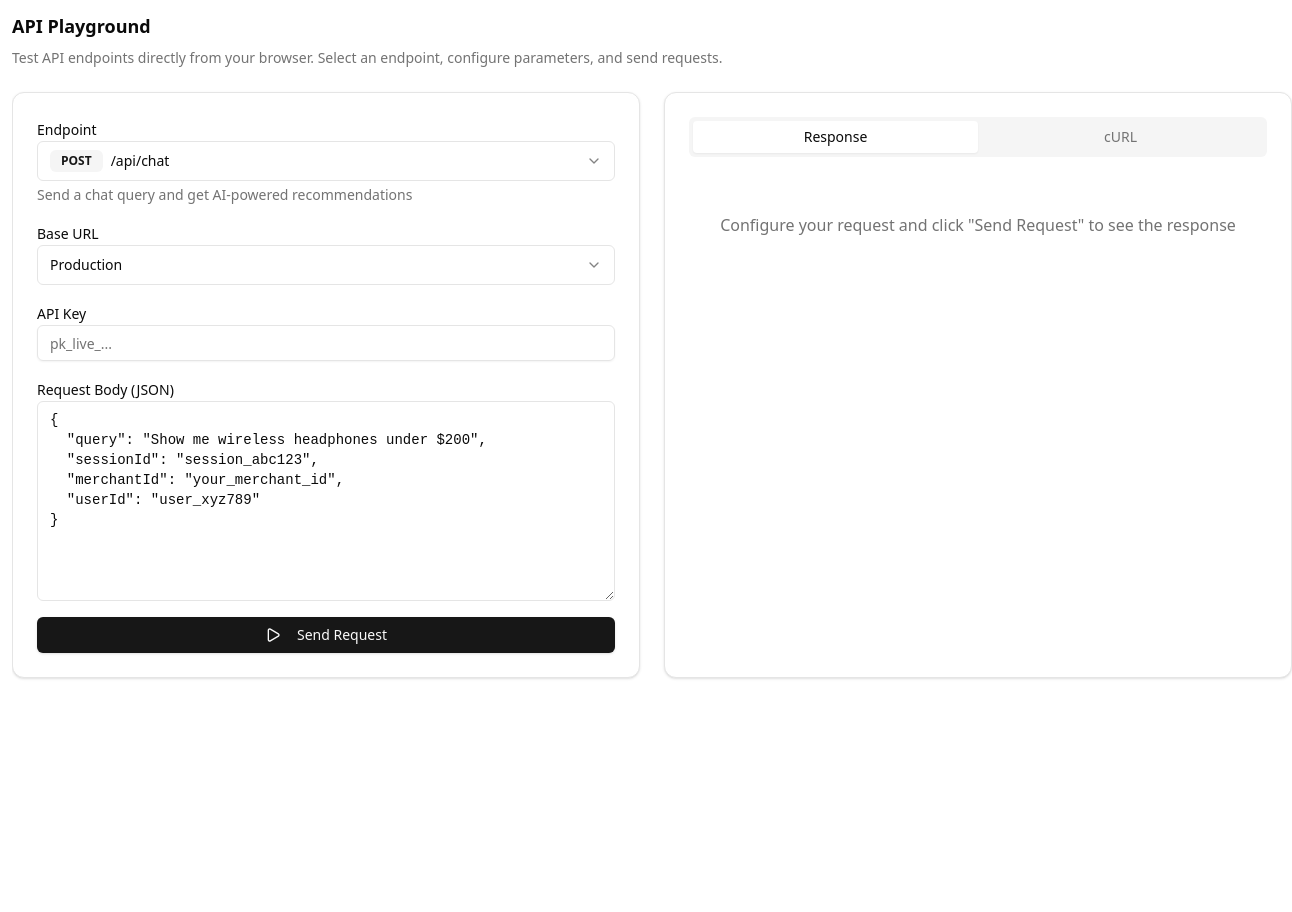
Test: ApiPlayground › handles API request errors
This screenshot has width=1292, height=912.
// Click send request
Click the button "Send Request" at (326, 635), box [37, 617, 615, 653]
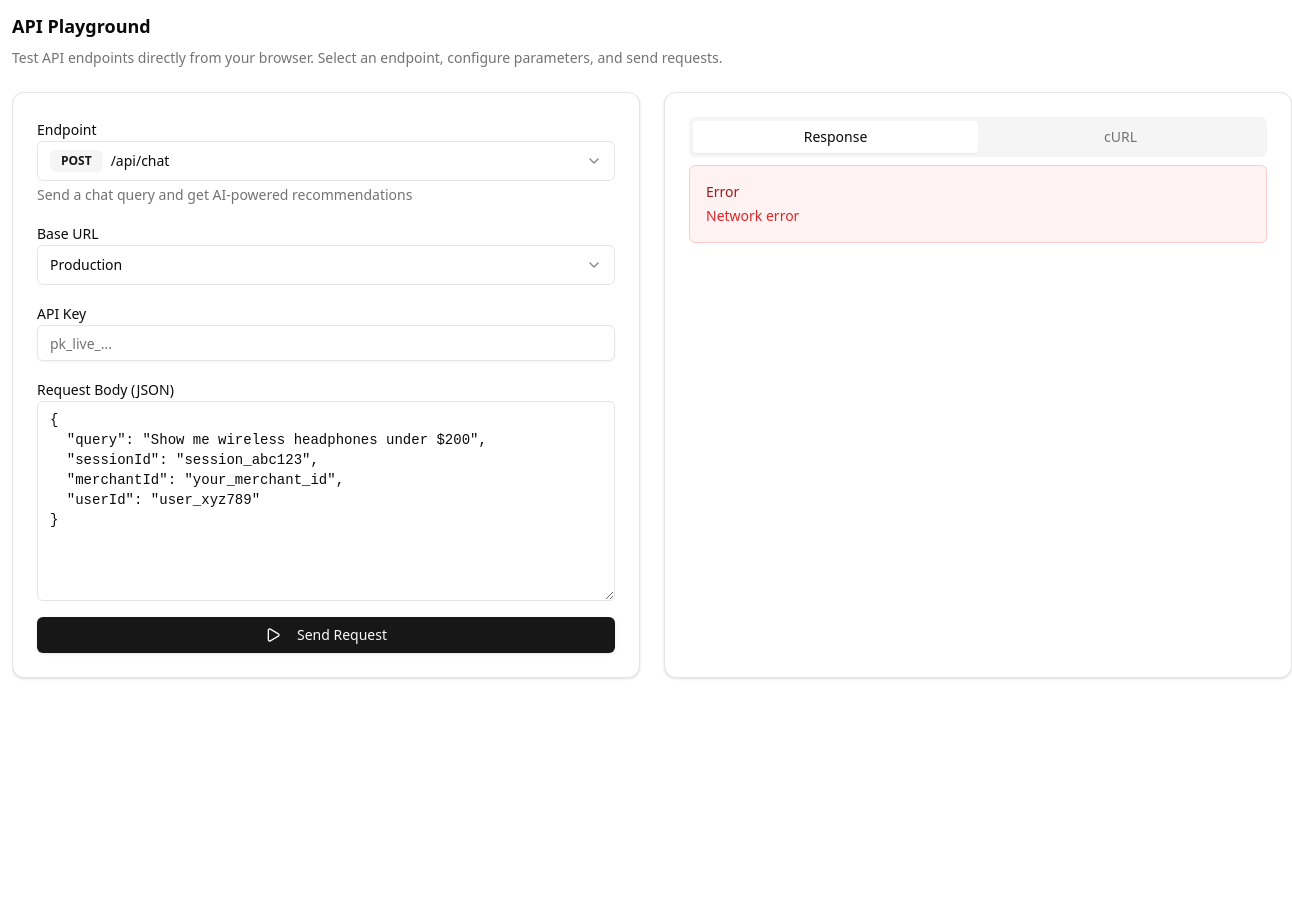
expect the text "Network error" is shown: met, box [706, 206, 799, 225]
